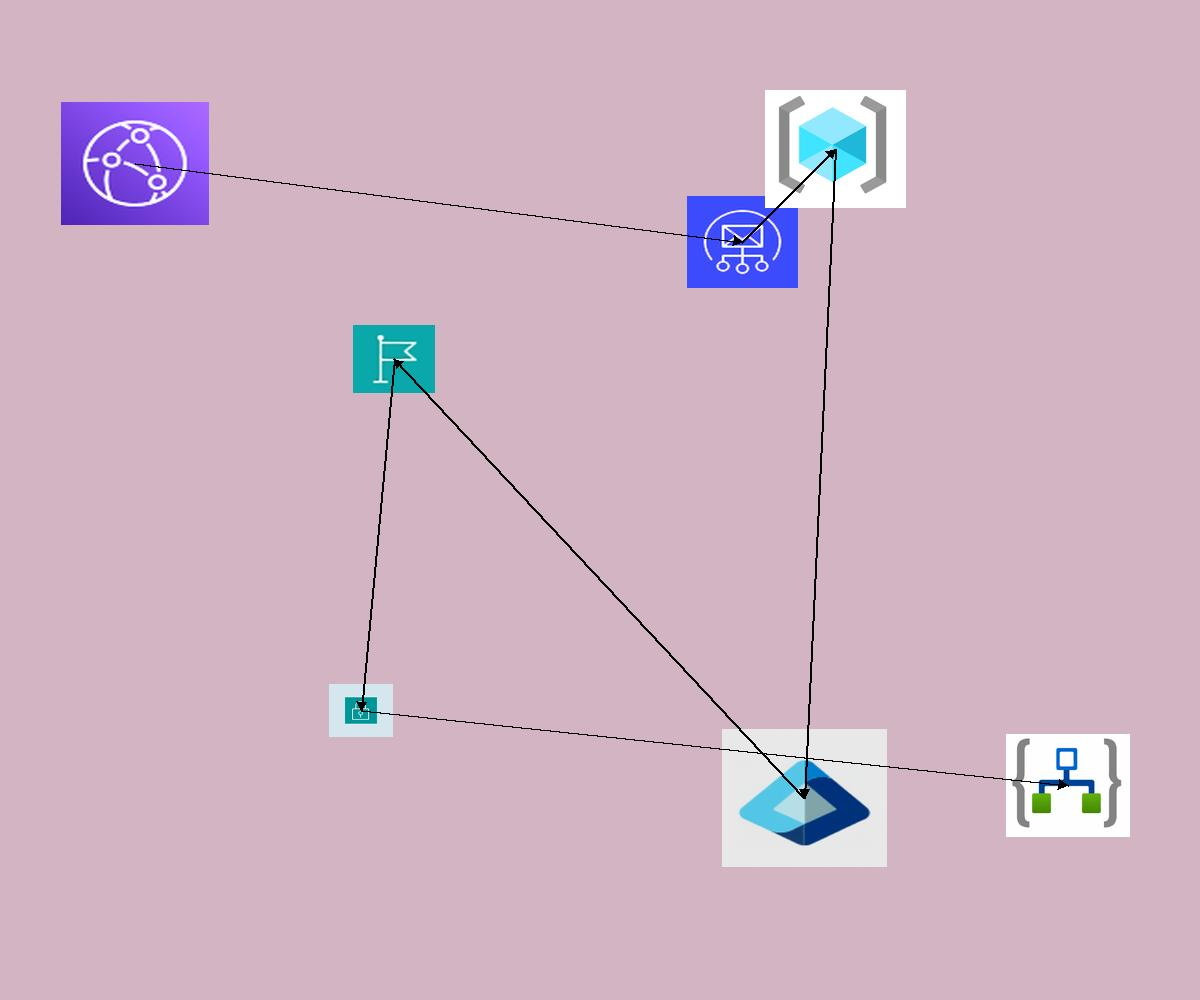AWS-CloudFront: (61, 102, 209, 225)
AWS-Private-subnet: (329, 684, 393, 737)
AWS-Region: (353, 325, 435, 393)
AWS-Simple-Email-Service: (687, 196, 798, 288)
Azure_integration-204-Logic-Apps: (1006, 734, 1130, 837)
Azure_microsoft_entra: (722, 729, 887, 867)
Azure_resource_group: (765, 90, 906, 208)
